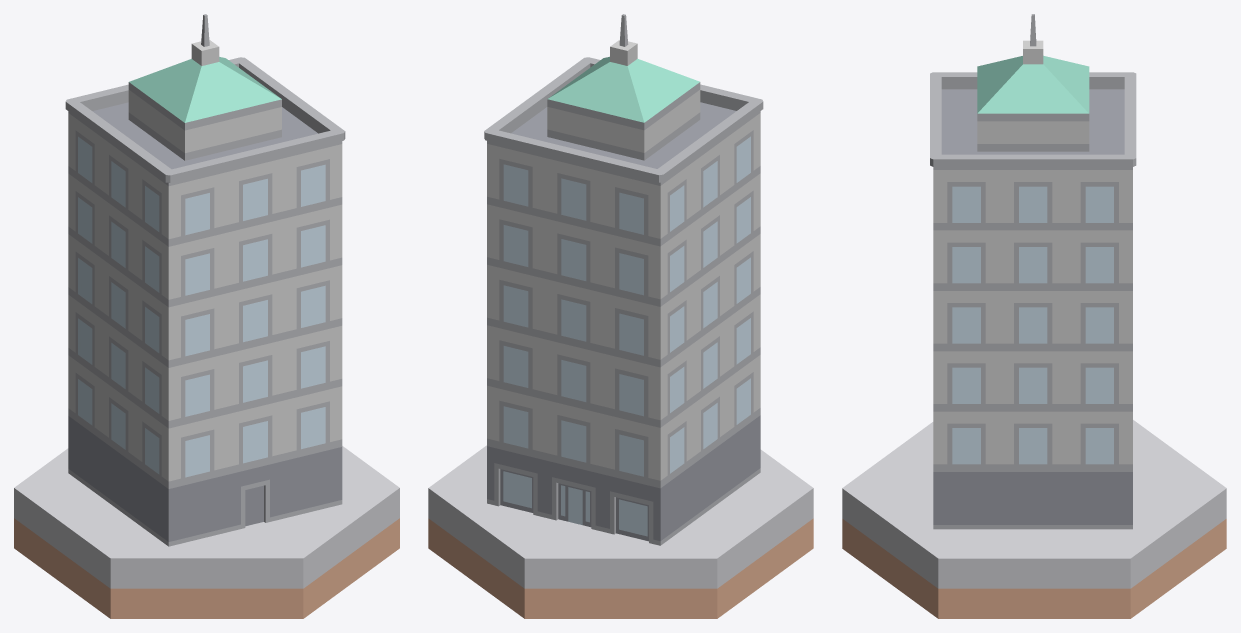
Rendered from skyscraper_6_high.fbx.
3 views of the same model, side by side, from view 1: azimuth 30°, elevation 25°; view 2: azimuth 150°, elevation 25°; view 3: azimuth 270°, elevation 25° (orthographic).
Parts seen in each view (by area): view 1: skyscraperE, pavement_high.008; view 2: skyscraperE, pavement_high.008; view 3: skyscraperE, pavement_high.008.
Part boxes in pixels (x1,y1,x2,y2): skyscraperE: [65, 14, 345, 546]; pavement_high.008: [14, 446, 399, 618]; skyscraperE: [484, 14, 763, 545]; pavement_high.008: [428, 445, 813, 618]; skyscraperE: [930, 14, 1136, 529]; pavement_high.008: [842, 420, 1226, 618].
Size of the model in its own units: 100 by 177 by 115.
